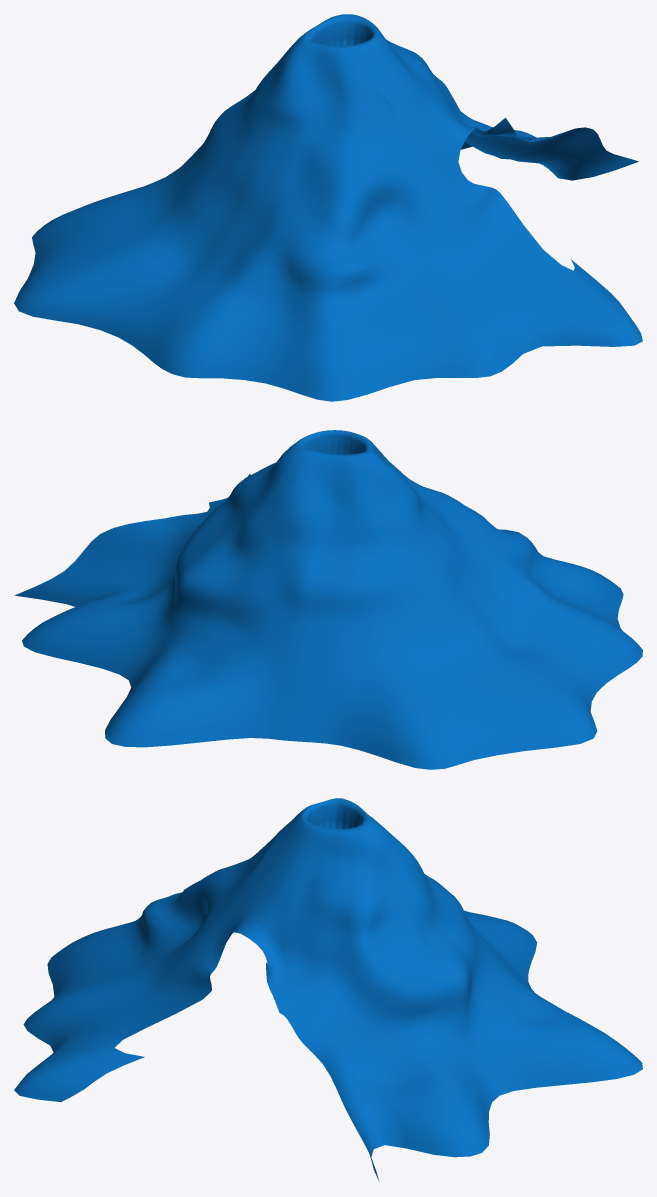
The model's file is L1_S3_Mountain_Collider.FBX.
3 renders of one model, top to bottom at view 1: azimuth 30°, elevation 25°; view 2: azimuth 150°, elevation 25°; view 3: azimuth 270°, elevation 25°, orthographic. The views are drawn at different scales.
Visible parts, largest first — view 1: Collider; view 2: Collider; view 3: Collider.
Part boxes in pixels (left/top/right/bottom): Collider: left=14, top=14, right=642, bottom=401; Collider: left=14, top=430, right=642, bottom=769; Collider: left=14, top=798, right=642, bottom=1180.
Bounding box in the file's own units: 14255 × 4954 × 12949.
